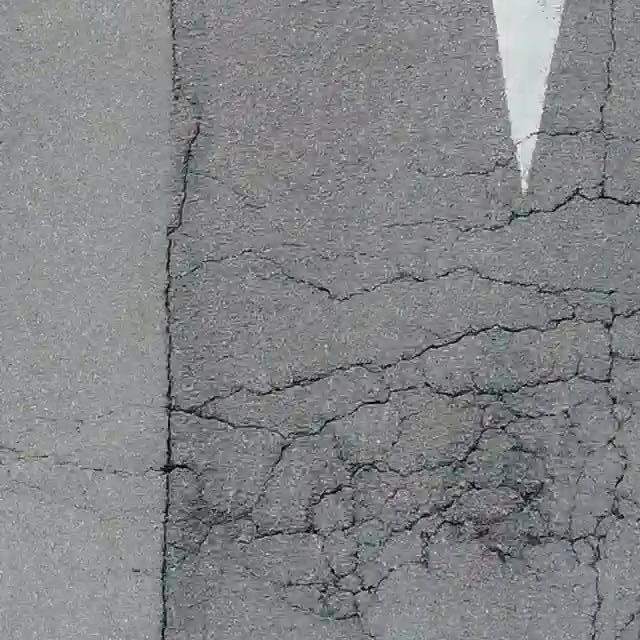GRIETA: (162, 0, 205, 271), (0, 444, 154, 477), (600, 0, 616, 124), (592, 571, 606, 639), (160, 562, 167, 639)
PIEL DE COCODRILO: (156, 120, 639, 625)
